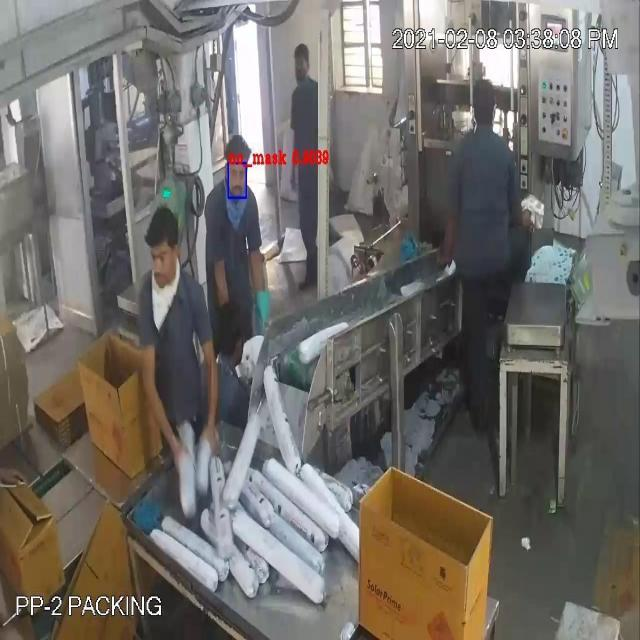No_Gloves: (42, 157, 206, 408)
